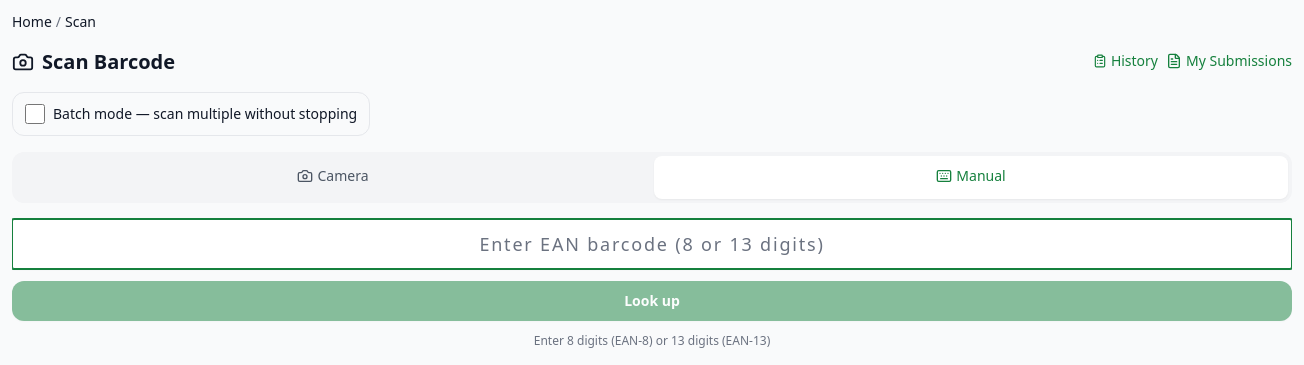
Test case: ScanPage › enables look up button when EAN is valid (8+ digits)
Click the button "Manual": (971, 178) left=654, top=156, right=1288, bottom=199
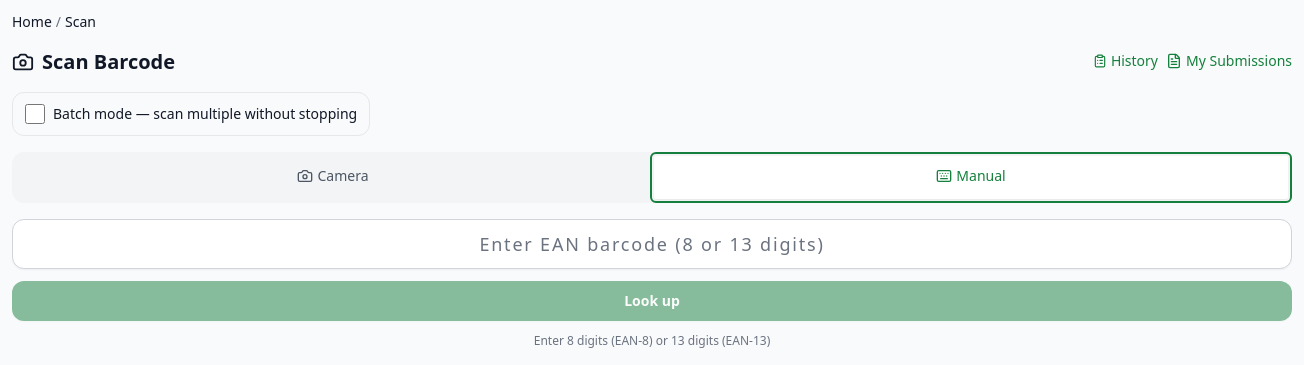
In the field with placeholder "Enter EAN barcode (8 or 13 digits)": (652, 244) left=12, top=219, right=1292, bottom=269, type "12345678"
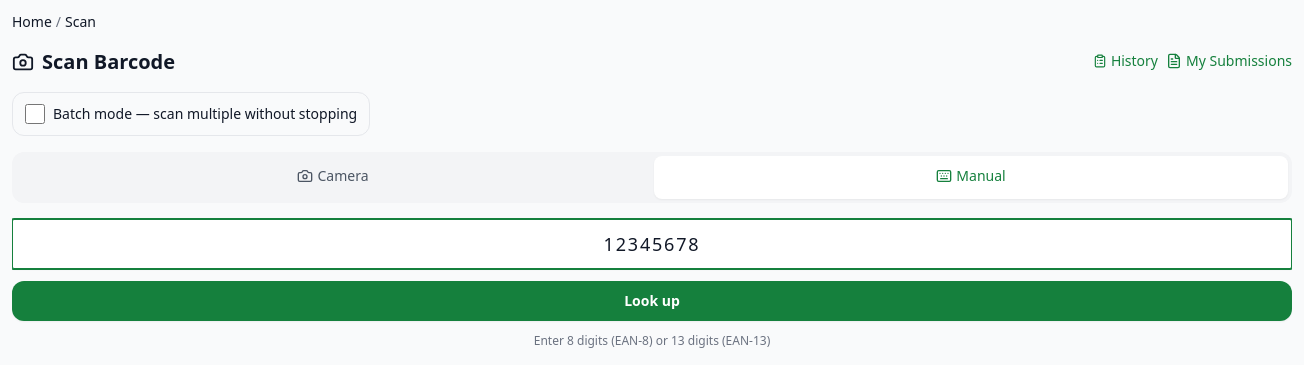
expect the button "Look up" is enabled: met, box left=12, top=281, right=1292, bottom=321
